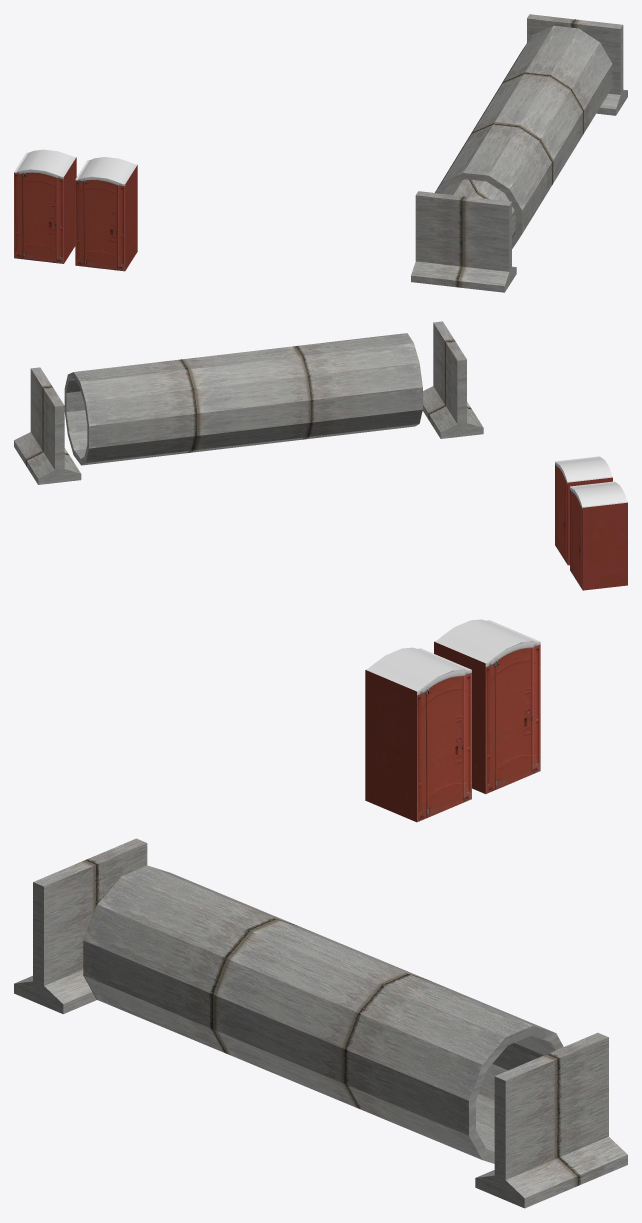
File: llmg_misc.gltf
3 renders of one model, top to bottom at view 1: azimuth 30°, elevation 25°; view 2: azimuth 150°, elevation 25°; view 3: azimuth 270°, elevation 25°, orthographic. The views are drawn at different scales.
Visible parts, largest first — view 1: node1; view 2: node1; view 3: node1.
Part boxes in pixels (x1=…): node1: x1=14, y1=14, x2=627, y2=292; node1: x1=14, y1=321, x2=627, y2=590; node1: x1=14, y1=619, x2=627, y2=1208.
Size of the model in its own units: 16.07 by 2.23 by 9.08.
